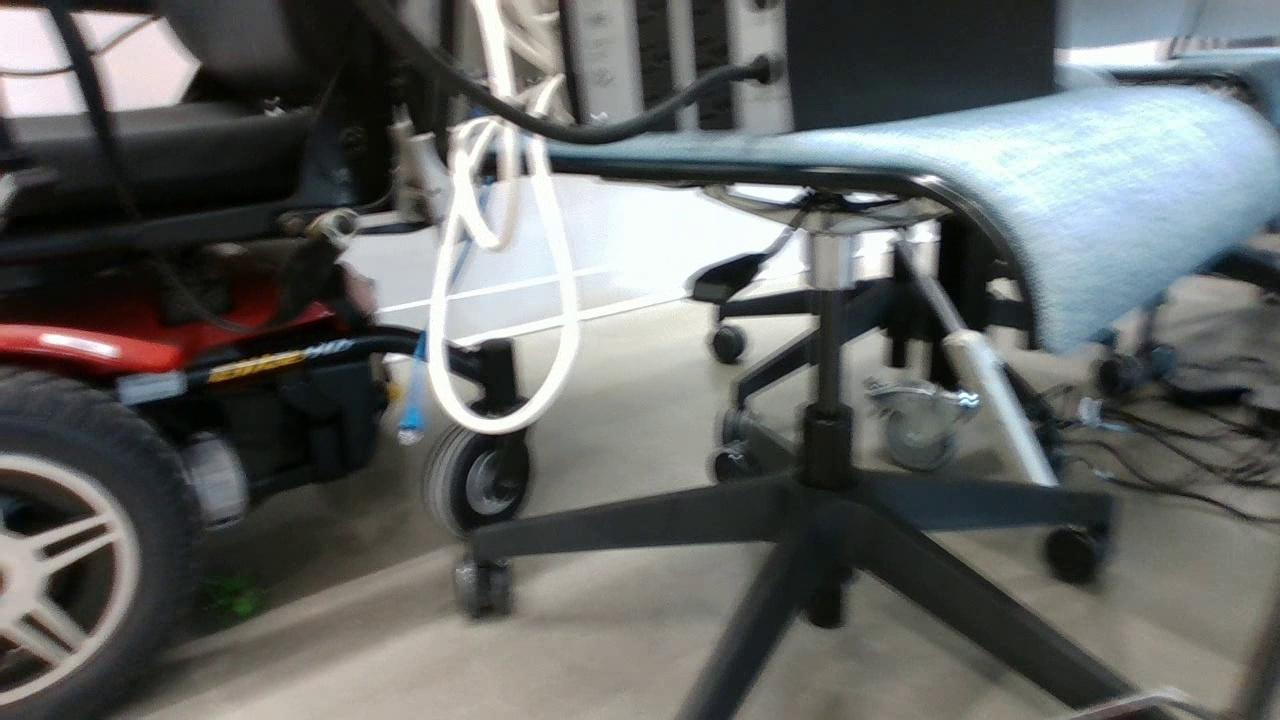grasshopper: (198, 566, 281, 614)
